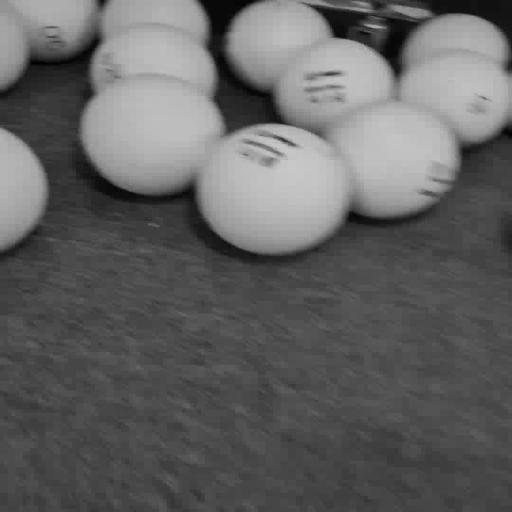fuel: (196, 124, 349, 255), (80, 74, 225, 195), (325, 100, 461, 219), (274, 38, 394, 134), (397, 50, 509, 146), (224, 0, 333, 92), (90, 22, 217, 99), (0, 128, 48, 252), (401, 14, 510, 68)
